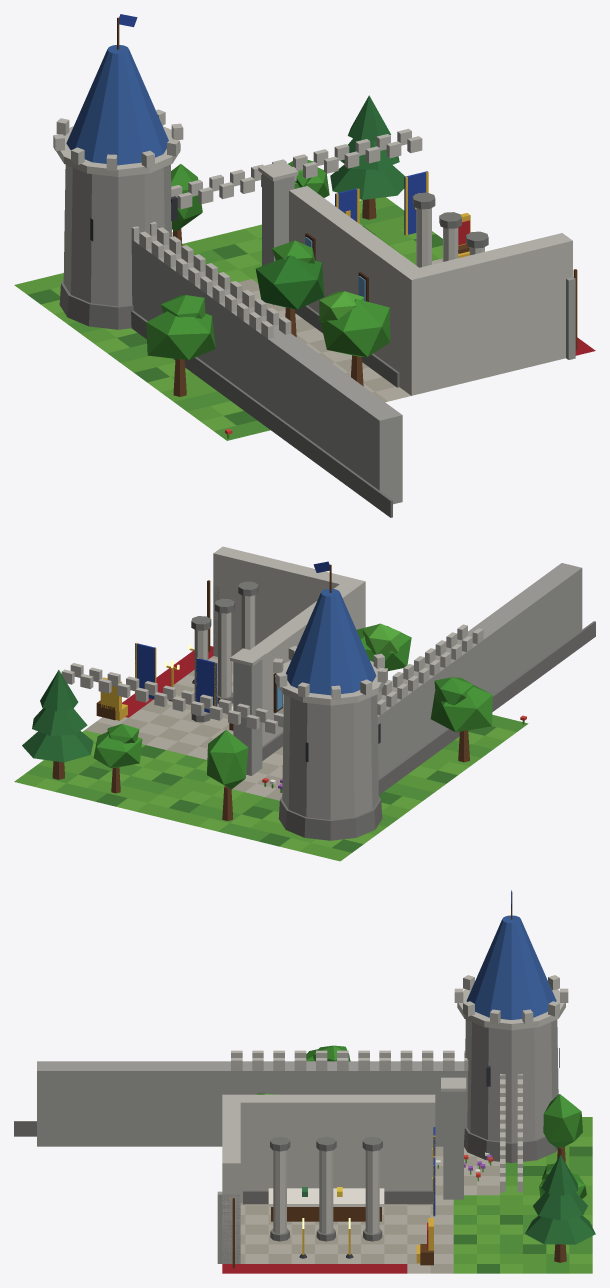
File: chunk_1_0.glb
The picture shows the model from 3 angles, top to bottom: view 1: azimuth 30°, elevation 25°; view 2: azimuth 150°, elevation 25°; view 3: azimuth 270°, elevation 25°; orthographic projection. The views are drawn at different scales.
Visible parts, largest first — view 1: chunk_1_0; view 2: chunk_1_0; view 3: chunk_1_0.
Part boxes in pixels (bbox=[...]): chunk_1_0: bbox=[14, 14, 595, 517]; chunk_1_0: bbox=[14, 546, 595, 861]; chunk_1_0: bbox=[14, 890, 595, 1273].
Size of the model in its own units: 16.85 by 12.13 by 25.15.
